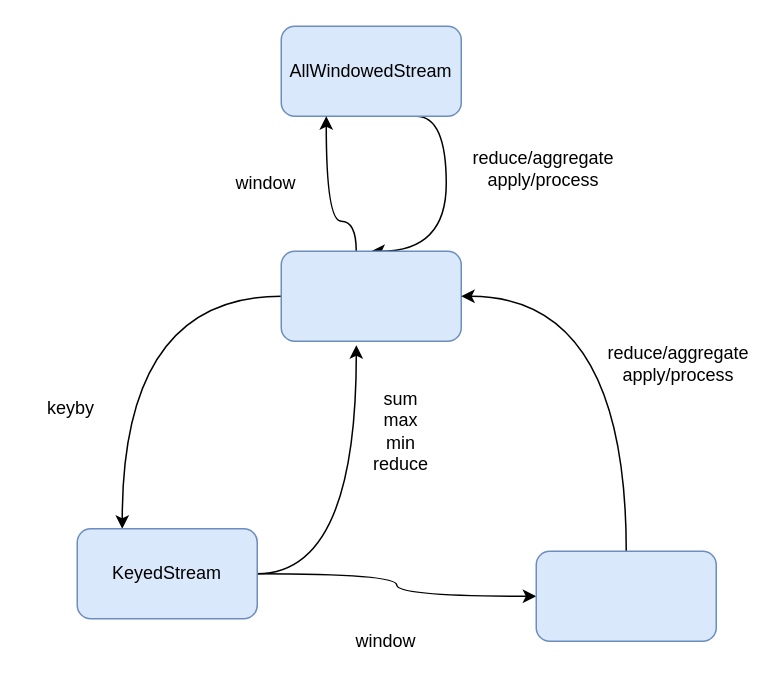
The diagram is 774 pixels wide and 690 high, and some of its shapes have lost their labels. The centre of each missing label's shape, as x and y in pixels:
"DataStream" goes at point (370, 295).
"WindowedStream" goes at point (625, 595).
